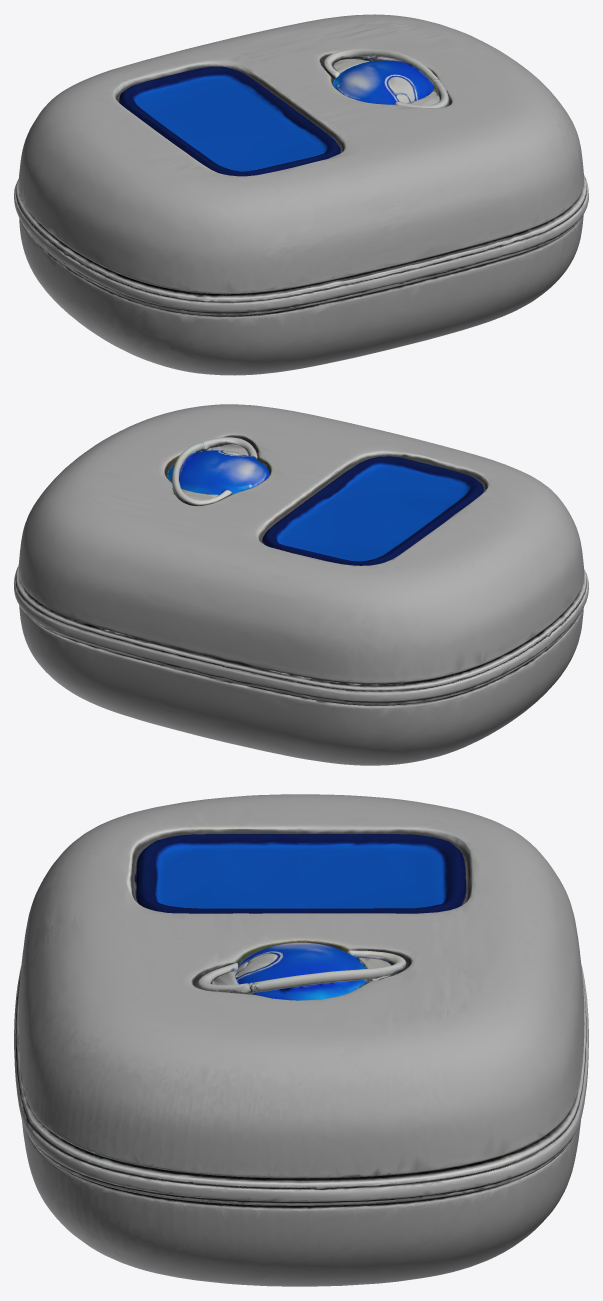
Rendered from may.glb.
3 renders of one model, top to bottom at view 1: azimuth 30°, elevation 25°; view 2: azimuth 150°, elevation 25°; view 3: azimuth 270°, elevation 25°, orthographic. The views are drawn at different scales.
Parts seen in each view (by area): view 1: tripo_node_42135974-1b53-40d9-a17b-5a9949ba7180; view 2: tripo_node_42135974-1b53-40d9-a17b-5a9949ba7180; view 3: tripo_node_42135974-1b53-40d9-a17b-5a9949ba7180.
Part boxes in pixels (x1,y1,x2,y2): tripo_node_42135974-1b53-40d9-a17b-5a9949ba7180: (14, 14, 588, 375); tripo_node_42135974-1b53-40d9-a17b-5a9949ba7180: (14, 404, 588, 765); tripo_node_42135974-1b53-40d9-a17b-5a9949ba7180: (14, 794, 588, 1286).
Size of the model in its own units: 0.98 by 0.3923 by 0.7654.
1 material, 1 textured.
